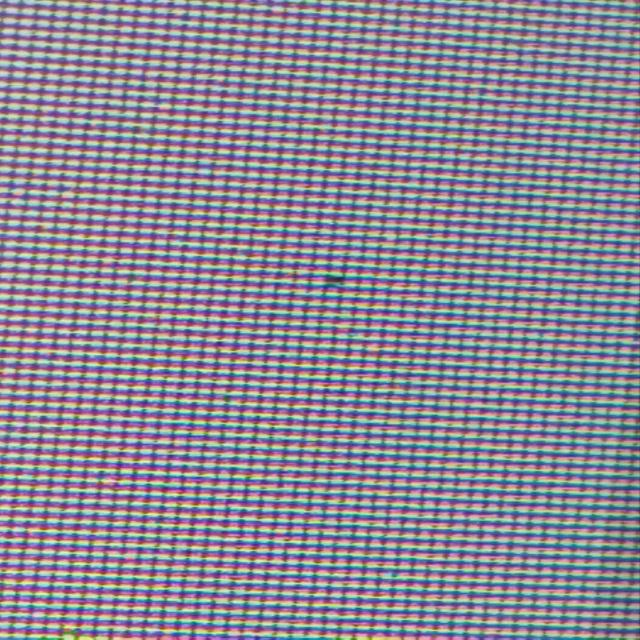Dead pixel: (325, 276, 344, 283)
